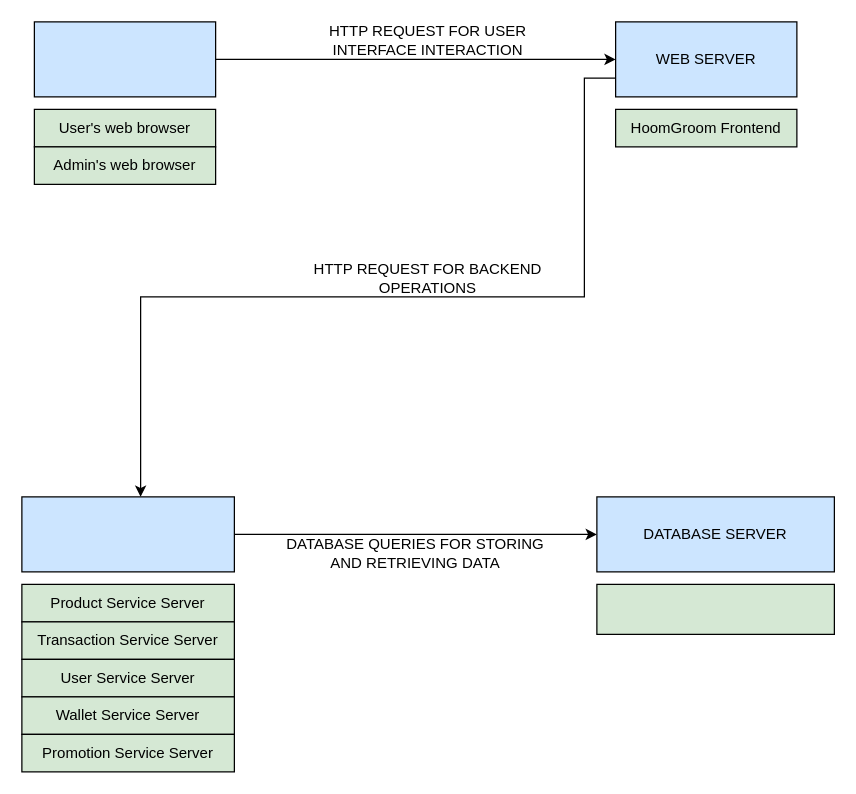
The diagram is 856 pixels wide and 794 high, and some of its shapes have lost their labels. Each missing label, with the centre of its shape:
"BACKEND SERVICES SERVER" belongs at pixel 127 534.
"Centralized database for all modules" belongs at pixel 715 608.
"CLIENT DEVICE" belongs at pixel 124 59.
